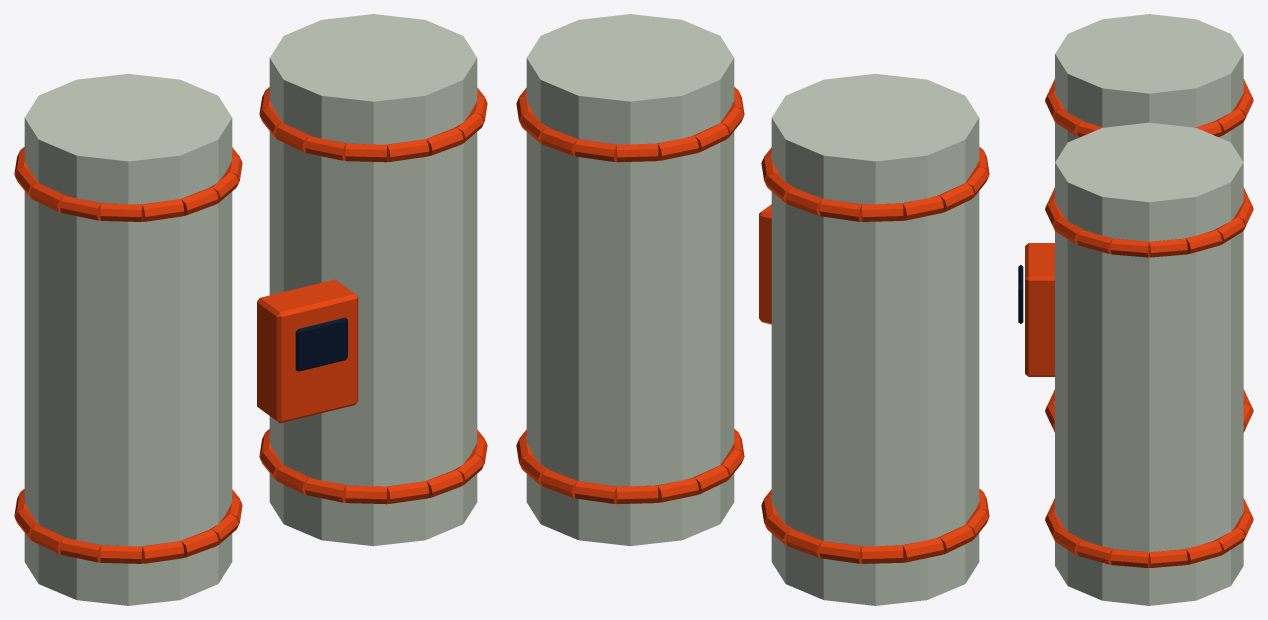
File: SM_MP_Fuel_Depot.fbx
3 views of the same model, side by side, from view 1: azimuth 30°, elevation 25°; view 2: azimuth 150°, elevation 25°; view 3: azimuth 270°, elevation 25° (orthographic). The views are drawn at different scales.
Visible parts, largest first — view 1: SM_MP_Fuel_Depot; view 2: SM_MP_Fuel_Depot; view 3: SM_MP_Fuel_Depot.
Part boxes in pixels (box(x1,y1,x2,y2)): SM_MP_Fuel_Depot: box(14, 14, 487, 605); SM_MP_Fuel_Depot: box(516, 14, 989, 605); SM_MP_Fuel_Depot: box(1018, 14, 1253, 605).
Bounding box in the file's own units: 272 × 137 × 260.
1 material, 1 textured.
